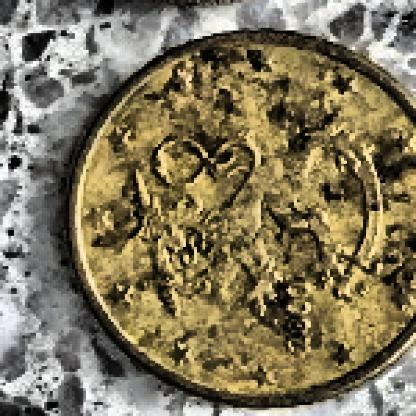coin: (64, 27, 413, 408)
